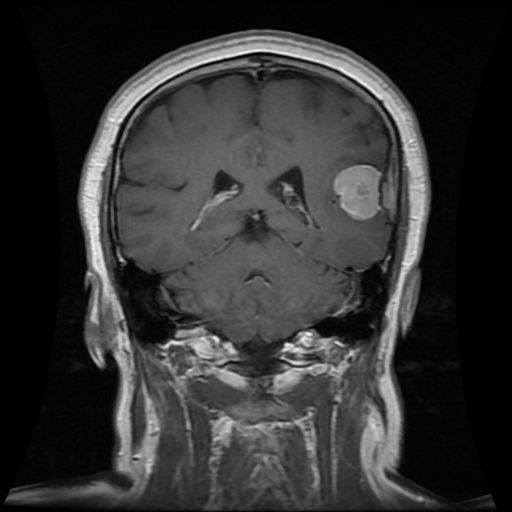meningioma: (332, 162, 380, 218)
